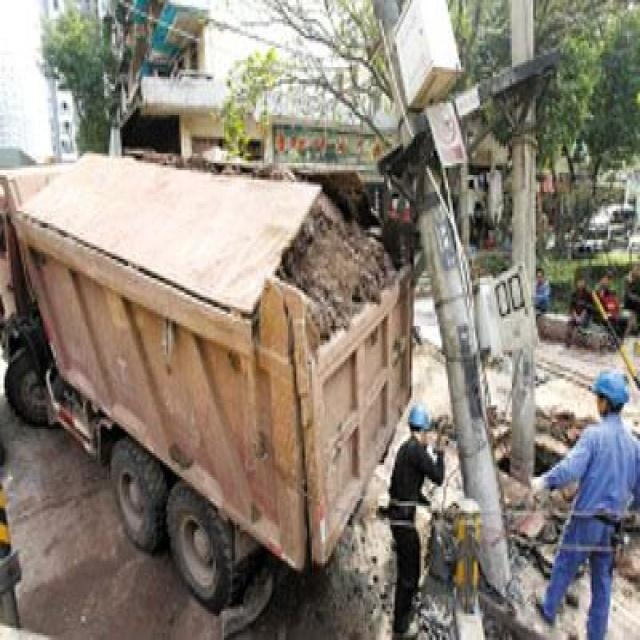helmet: (589, 487, 629, 569), (408, 531, 437, 604)
